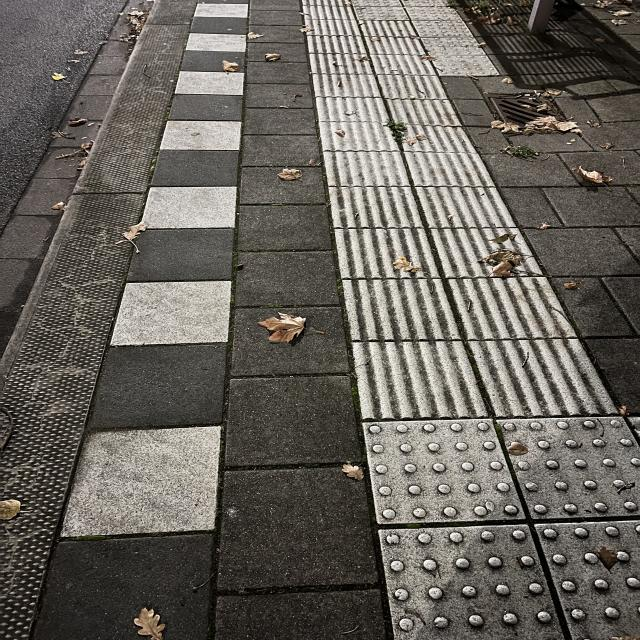leaves: (257, 156, 323, 192), (262, 313, 318, 347), (489, 238, 529, 280), (132, 607, 180, 640), (267, 49, 277, 61)
pavement: (0, 0, 639, 639)
